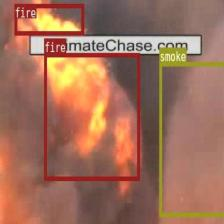fire: (44, 52, 139, 180), (14, 3, 83, 34)
smoke: (158, 61, 224, 215)
